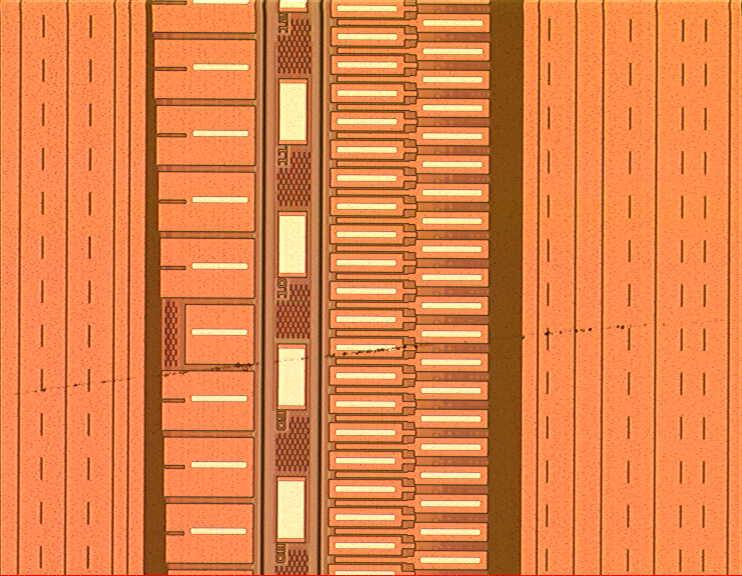SCRATCH: (2, 305, 742, 405)
